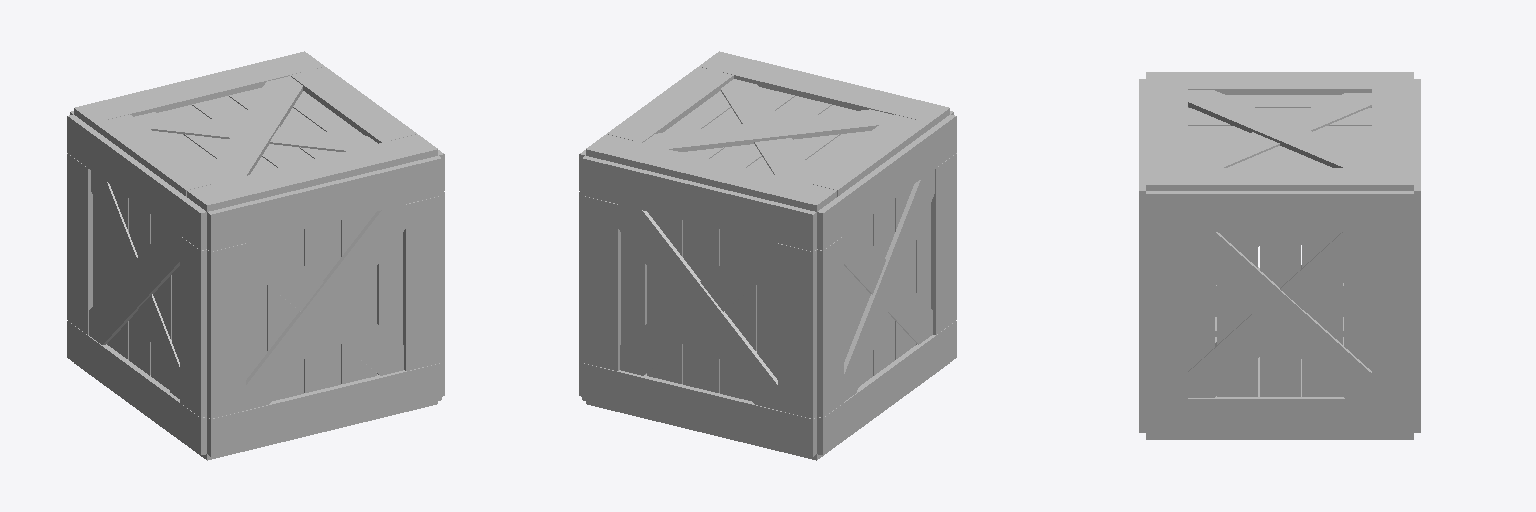
3 views of the same model, side by side, from view 1: azimuth 30°, elevation 25°; view 2: azimuth 150°, elevation 25°; view 3: azimuth 270°, elevation 25° (orthographic).
Parts seen in each view (by area): view 1: Wooden_Box_Crate; view 2: Wooden_Box_Crate; view 3: Wooden_Box_Crate.
Part boxes in pixels (bbox=[...]): Wooden_Box_Crate: bbox=[67, 51, 444, 460]; Wooden_Box_Crate: bbox=[579, 51, 956, 460]; Wooden_Box_Crate: bbox=[1139, 72, 1420, 439].
Bounding box in the file's own units: 1.5 × 1.5 × 1.5.